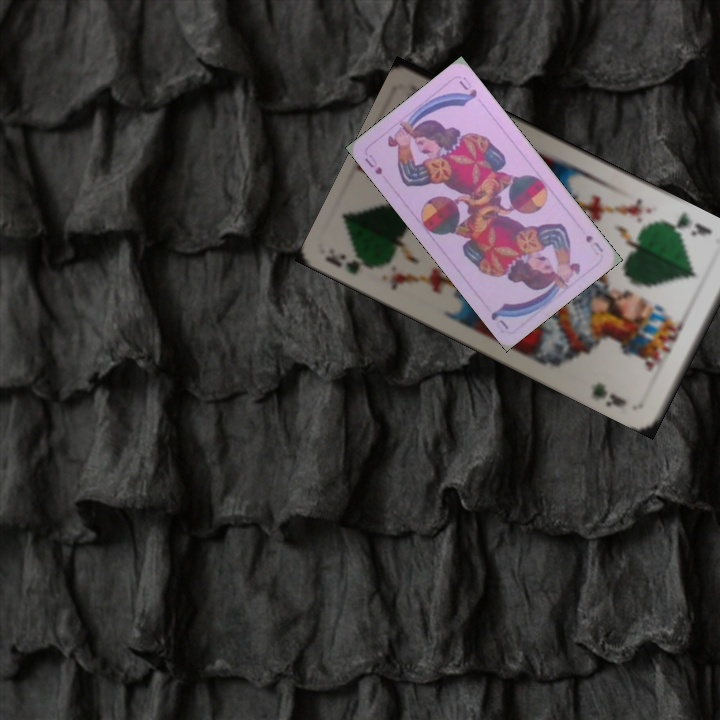GK: (323, 249, 384, 277), (665, 208, 714, 239)
SU: (361, 150, 385, 177), (581, 231, 606, 254)
